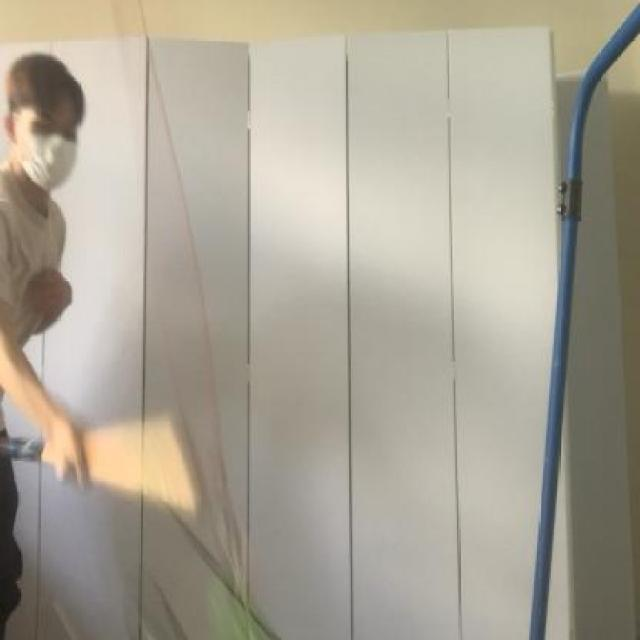baseball: (204, 586, 271, 640)
